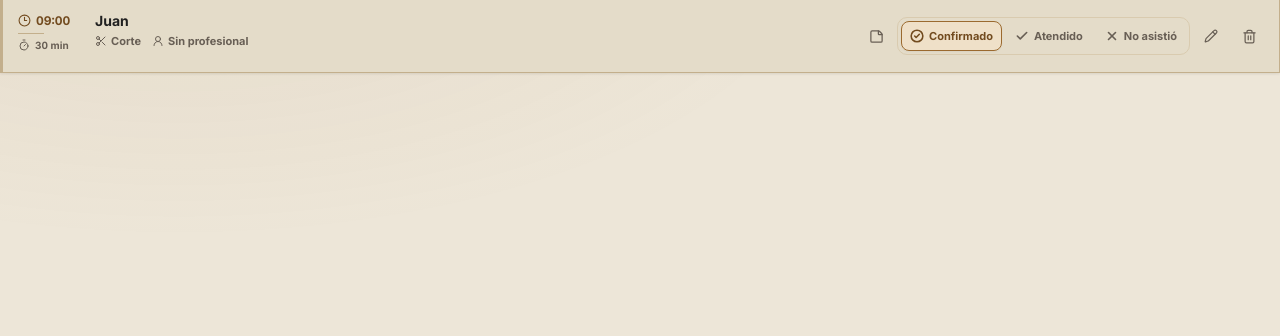
Scenario: Agenda: notas de la ficha del turno (55) › un cliente_id null manda sobre un paciente_id viejo después de reasignar el turno
Click the button named "Notas del cliente". click: (876, 36)
box: [859,19,893,53]
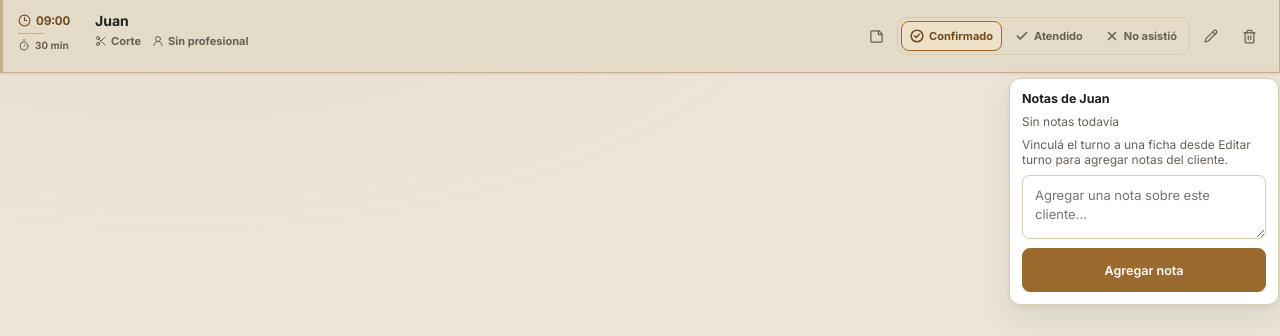
Check: the text "Sin notas todavía" is shown, box [1022,114,1119,129]
Check: the button "Agregar nota" is disabled, box [1022,248,1266,292]
